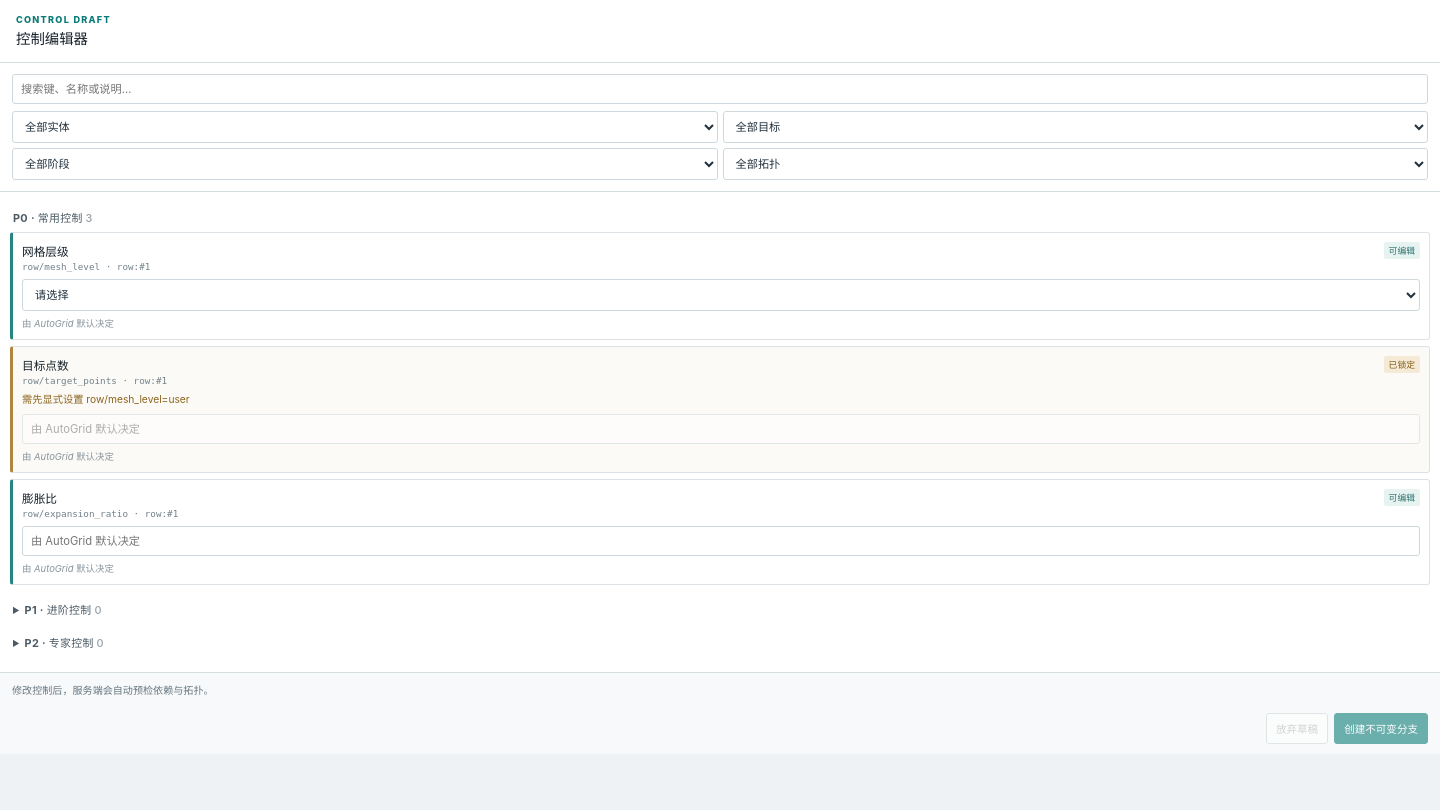
预检过渡期正在编辑的行保持可编辑，匹配后按有效状态重新锁定
The image size is (1440, 810).
Expected: the field named "row/target_points · row:#1" is shown, [22,414,1420,444]
Step 1. Select "user" in the 5th dropdown → (721, 295), box [22,279,1420,311]
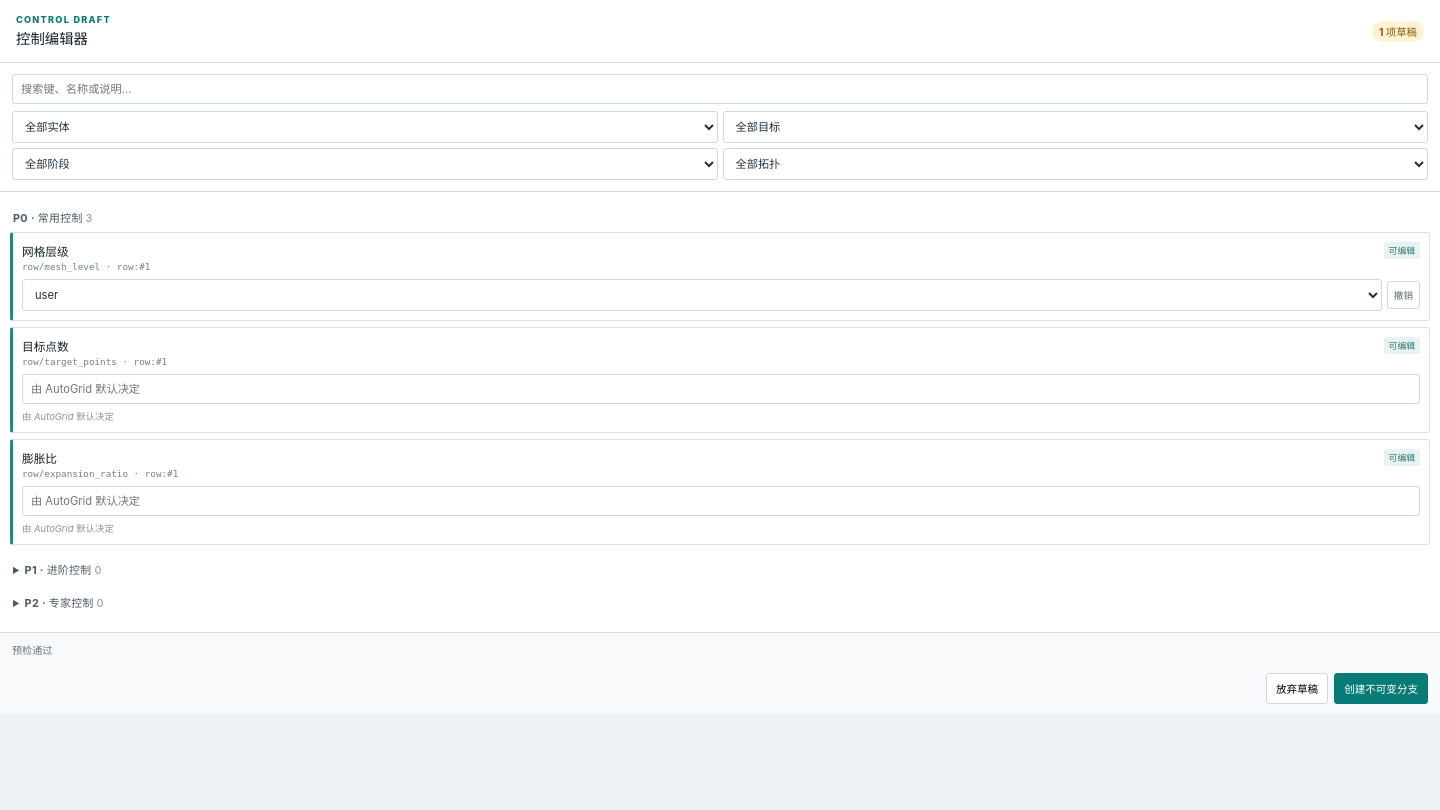
Result: the field named "row/target_points · row:#1" is enabled
Note: 解锁后修改子项值：草稿变化、预检未匹配时输入不被禁用。
Step 2. Type "500000" into the field named "row/target_points · row:#1" → (721, 389), box [22,374,1420,404]
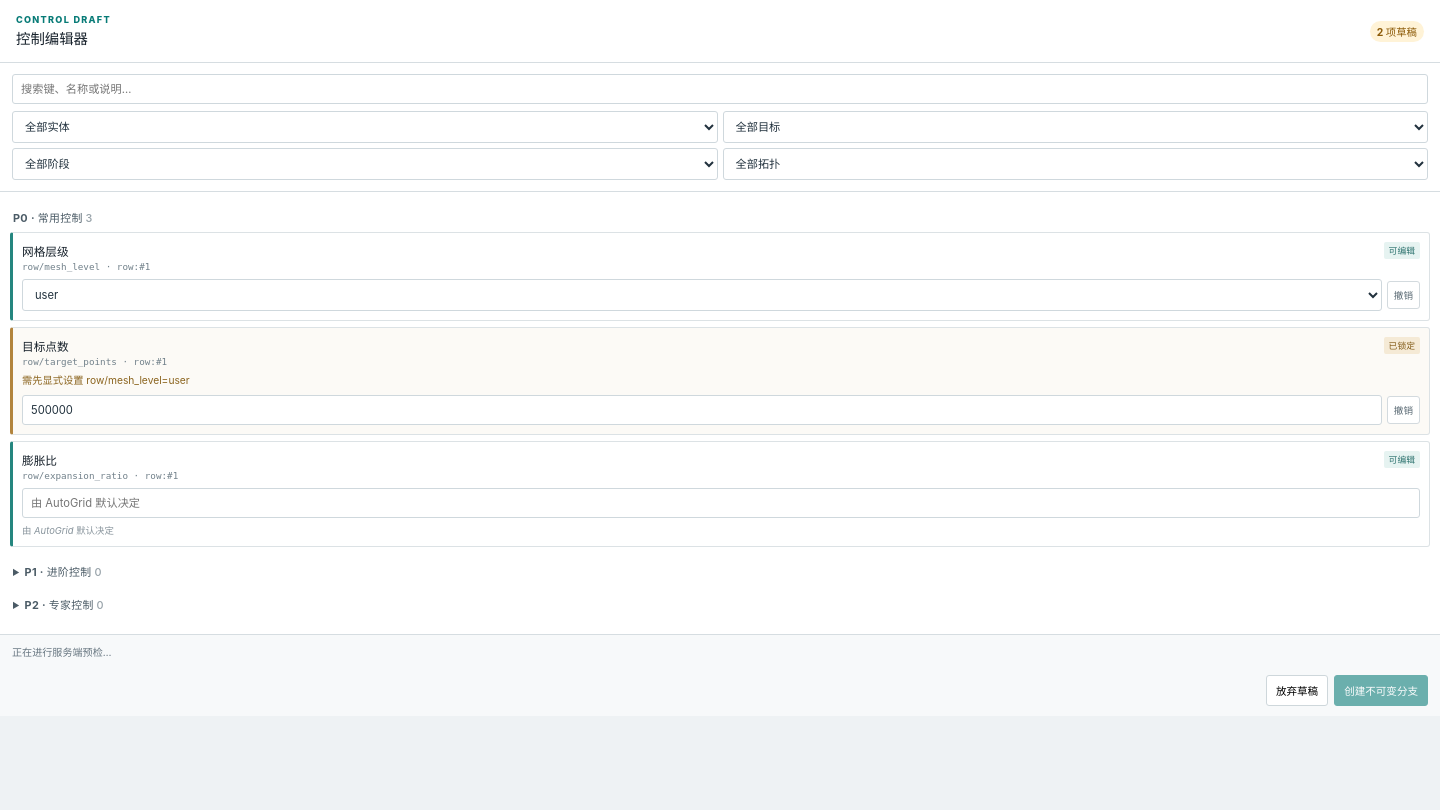
Result: the field named "row/target_points · row:#1" is enabled at [22,395,1382,425]
Note: 撤销前置项后，匹配的预检把子项重新锁定（即使草稿中仍有该子项）。
Step 3. Click the 1st button "撤销" → (1403, 295), box [1387,281,1420,309]
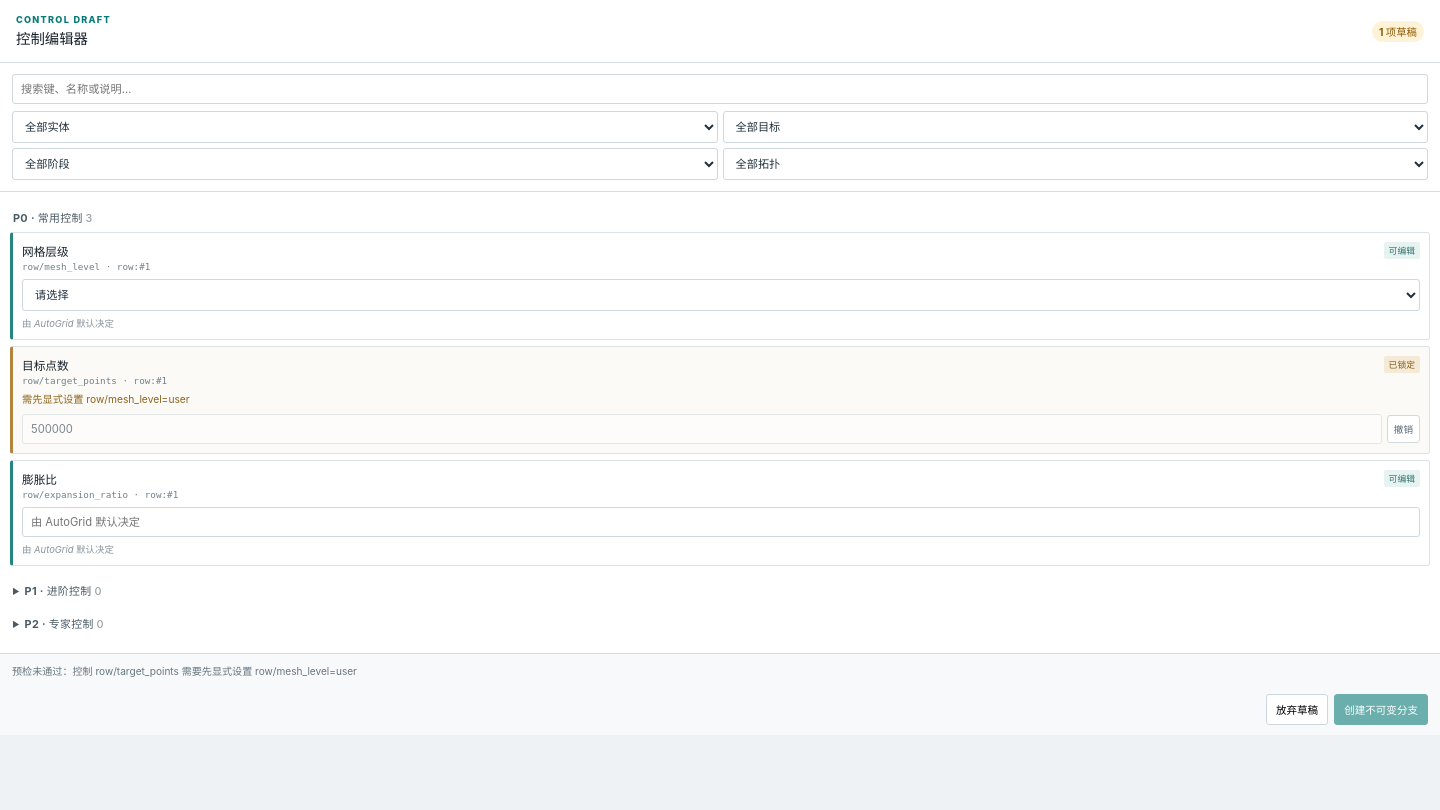
Result: the text "需先显式设置 row/mesh_level=user" is shown at [22,393,190,405]
Result: the field named "row/target_points · row:#1" is disabled at [22,414,1382,444]
